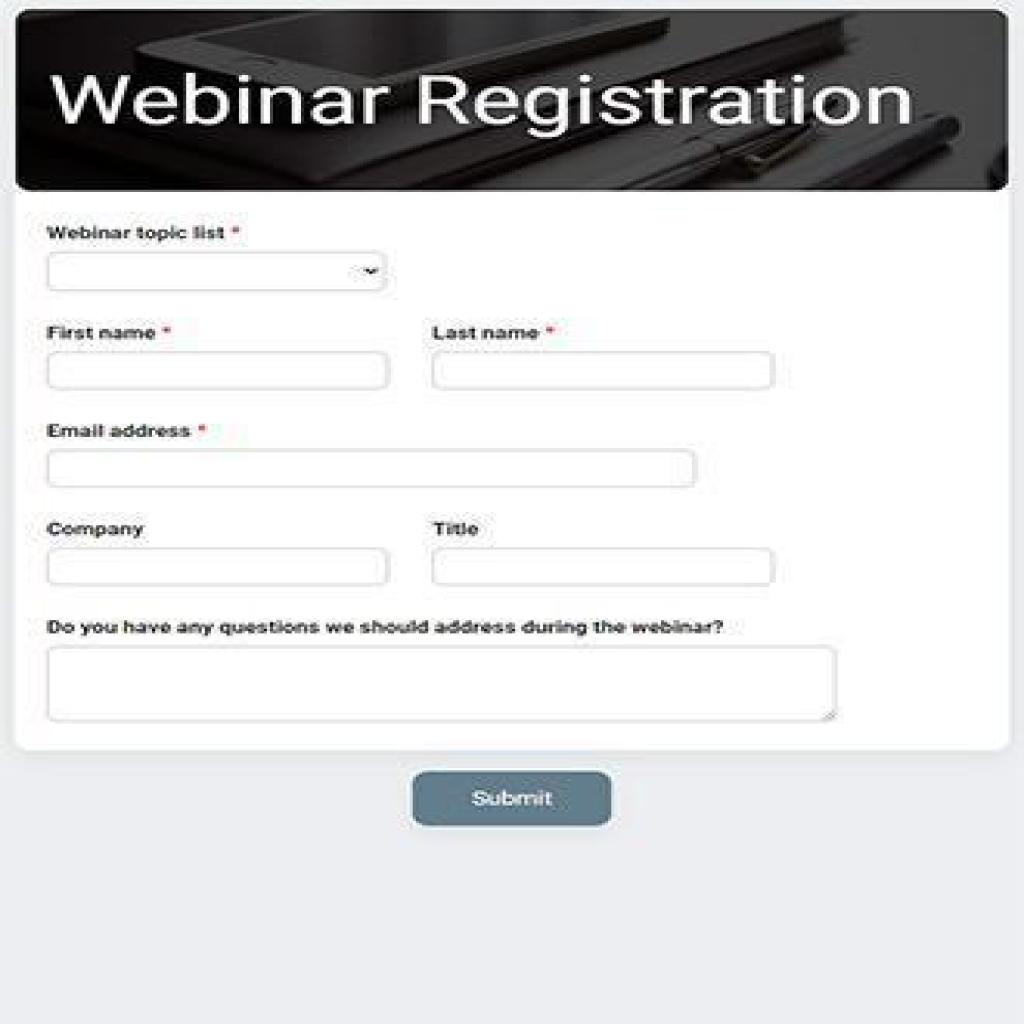button: (410, 768, 618, 828)
dropdown: (46, 252, 384, 294)
input: (47, 448, 698, 486), (47, 346, 391, 393), (40, 548, 385, 590), (431, 351, 776, 388), (431, 549, 773, 585)
label: (18, 53, 924, 137), (40, 613, 738, 638), (18, 216, 254, 247), (25, 410, 214, 444), (37, 510, 158, 545), (40, 316, 180, 346), (425, 320, 568, 344), (413, 512, 493, 543)
